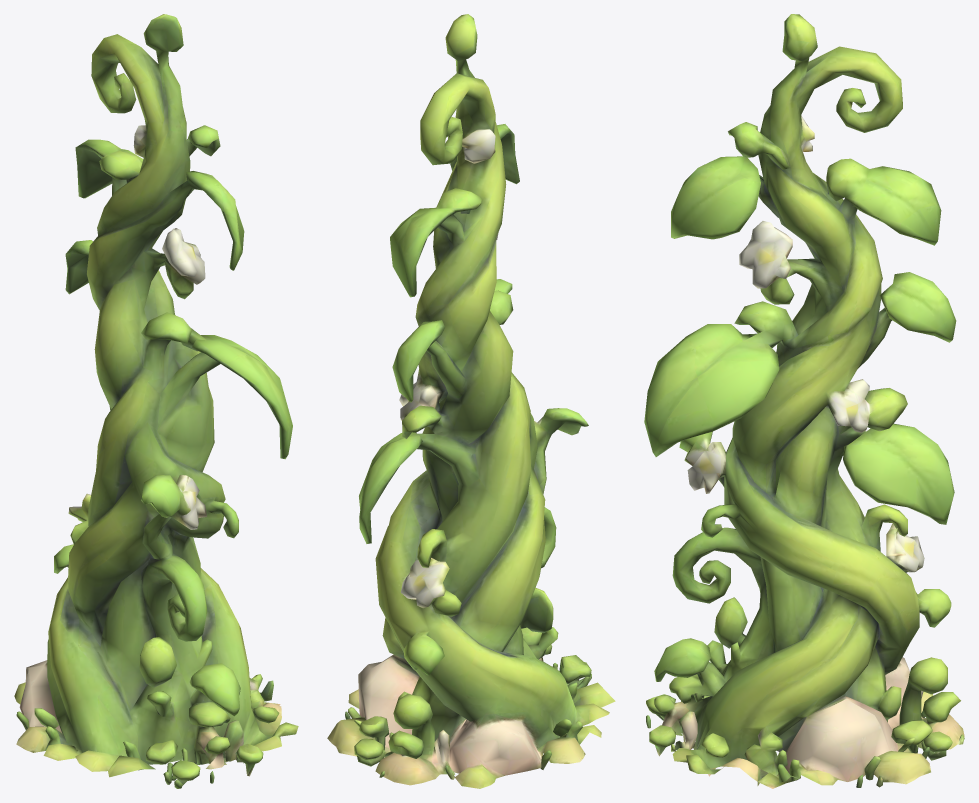
File: fasola_4.glb
The picture shows the model from 3 angles, left to right: view 1: azimuth 30°, elevation 25°; view 2: azimuth 150°, elevation 25°; view 3: azimuth 270°, elevation 25°; orthographic projection. The views are drawn at different scales.
Parts seen in each view (by area): view 1: fasola_4; view 2: fasola_4; view 3: fasola_4.
Boxes of the visible parts, left/top/right/bottom form: fasola_4: left=14, top=14, right=298, bottom=788; fasola_4: left=327, top=14, right=615, bottom=788; fasola_4: left=644, top=14, right=964, bottom=788.
Bounding box in the file's own units: 0.3288 × 0.9491 × 0.3757.
Materials: 1 (1 with a texture image).
